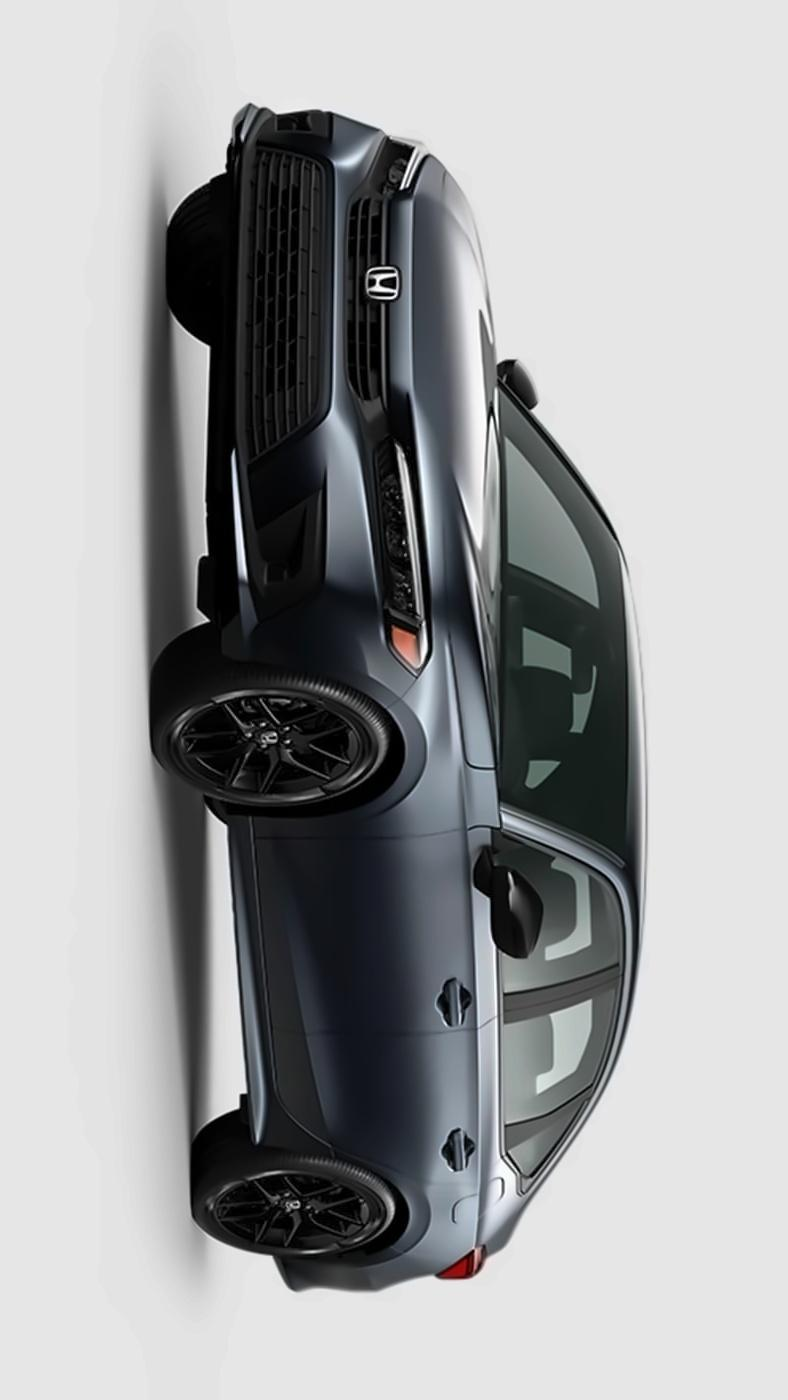Car hood: (386, 137, 520, 774)
Fender - -F-L-: (234, 659, 522, 836)
Fender - -R-L-: (286, 1130, 515, 1258)
Front bumper: (198, 92, 411, 709)
Headlight - -L-: (352, 410, 442, 689)
Headlight - -R-: (360, 116, 440, 213)
Passenger-s door - -F-L-: (242, 832, 633, 1033)
Passenger-s door - -R-L-: (252, 1007, 635, 1186)
Rear bumper: (260, 1238, 431, 1311)
Rear light - -L-: (434, 1228, 500, 1291)
Side bumper - -L-: (218, 801, 338, 1169)
Side mirror - -L-: (456, 834, 560, 975)
Side mirror - -R-: (482, 336, 560, 438)
